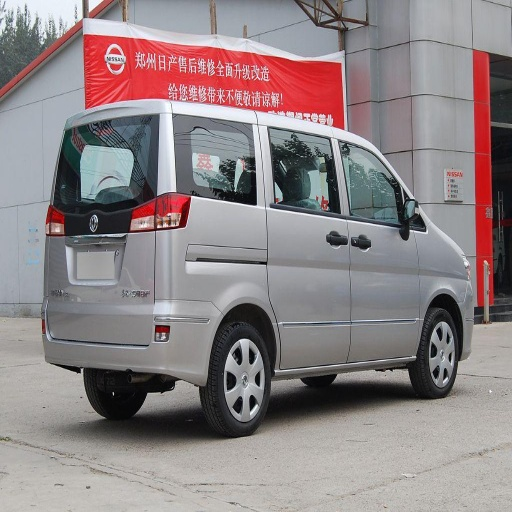back_bumper: (42, 284, 194, 375)
back_right_door: (277, 131, 347, 361)
trunk: (45, 199, 280, 374)
